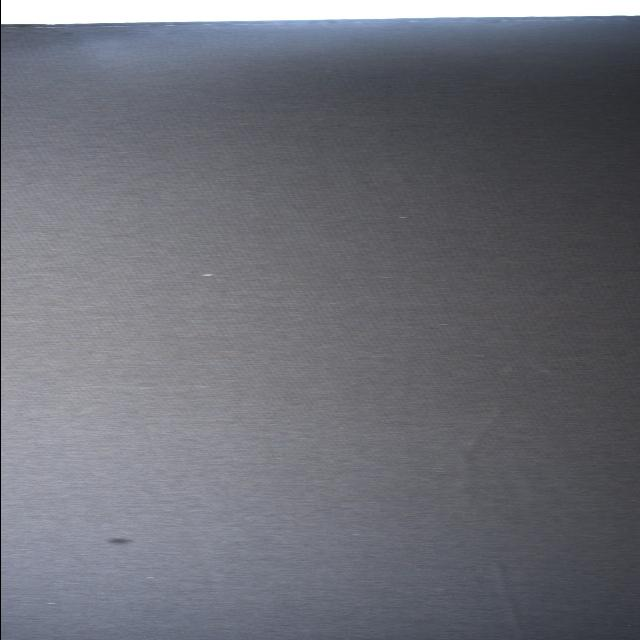crease: (451, 404, 640, 527), (471, 560, 505, 640), (379, 132, 423, 181)
whiteDefect: (194, 272, 225, 280)
